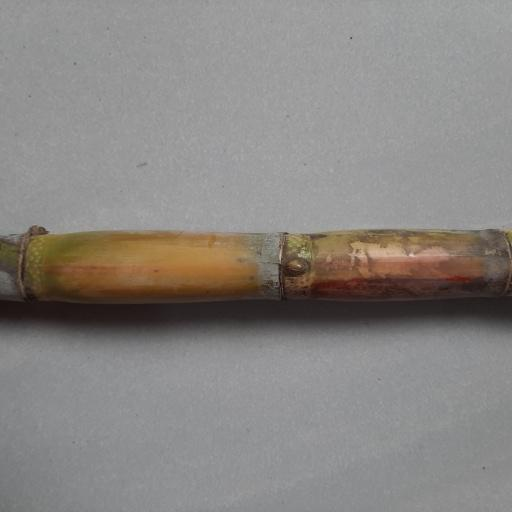Bud: (282, 257, 308, 276)
